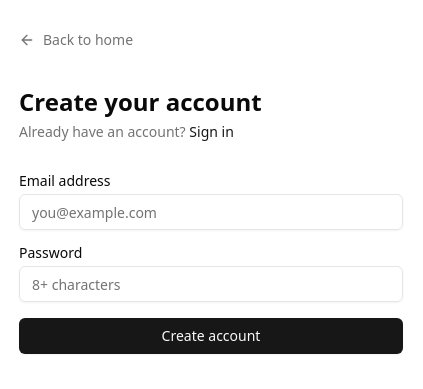
Test: SignupPage › shows duplicate email error message on failed signup
Step 1. Type "existing@example.com" into the field labelled "Email address" → {"x": 211, "y": 212}, box [19,194,403,230]
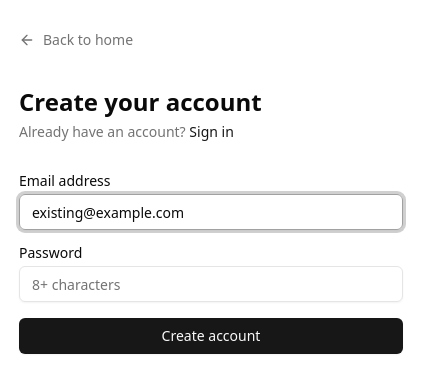
Step 2. Type "password123" into the password field labelled "Password" → {"x": 211, "y": 284}, box [19,266,403,302]
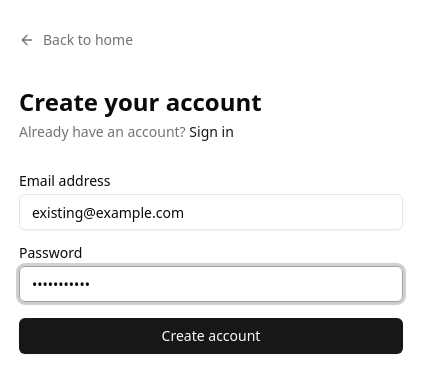
Step 3. Click the button "Create account" → {"x": 211, "y": 336}, box [19,318,403,354]
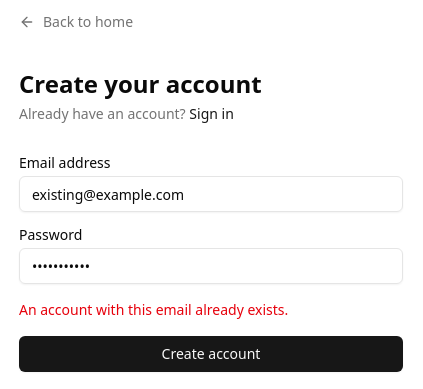
Now the text "An account with this email already exists." is shown, box [19,300,288,319]
